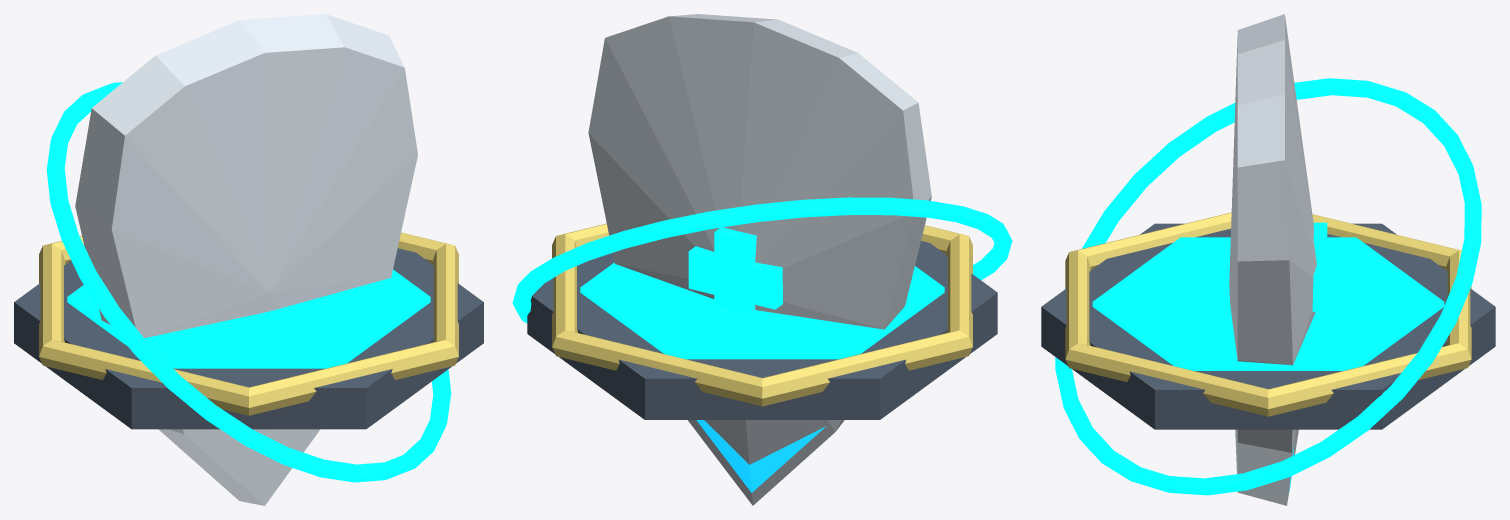
File: powerup-shield.glb
3 renders of one model, left to right at view 1: azimuth 30°, elevation 25°; view 2: azimuth 150°, elevation 25°; view 3: azimuth 270°, elevation 25°, orthographic. The views are drawn at different scales.
Visible parts, largest first — view 1: PowerupShield; view 2: PowerupShield; view 3: PowerupShield.
Part boxes in pixels (x1,y1,x2,y2): PowerupShield: (14, 14, 483, 505); PowerupShield: (512, 14, 1012, 505); PowerupShield: (1041, 14, 1495, 505).
Bounding box in the file's own units: 1.19 × 1.3 × 1.15.
